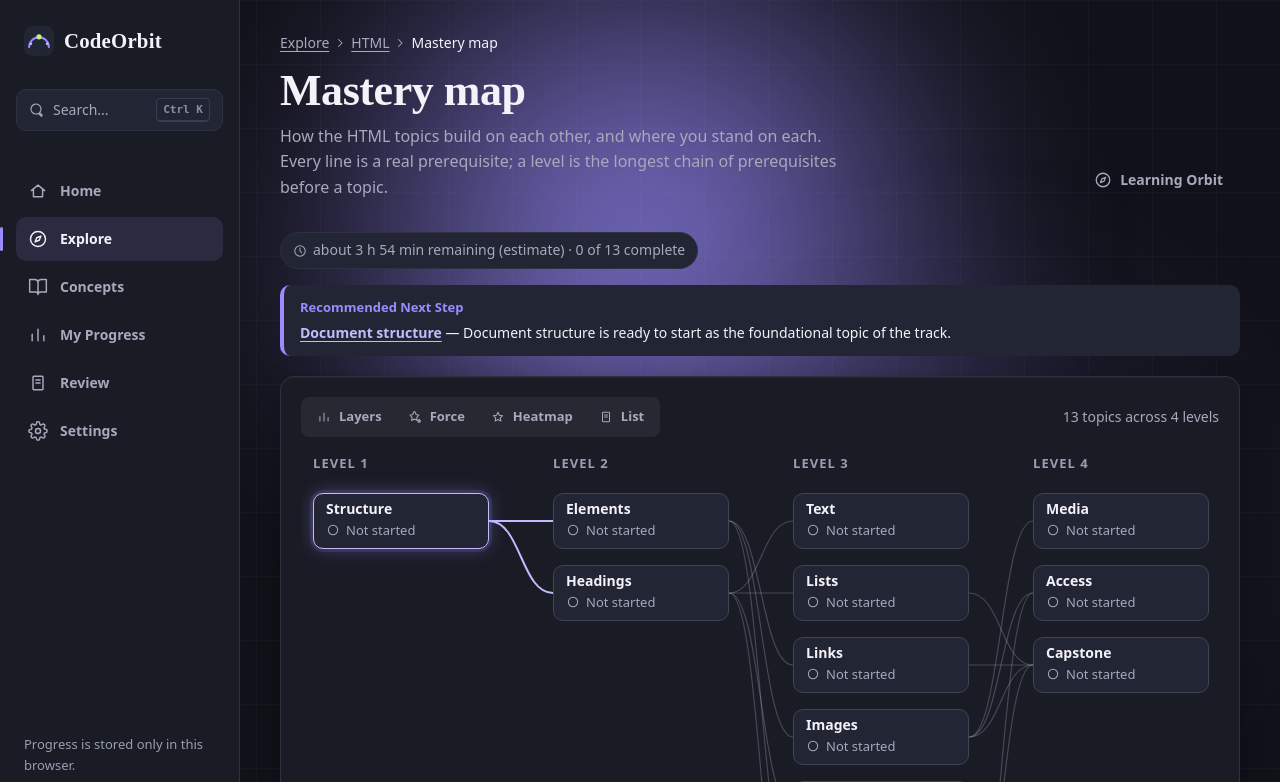
Test case: Force-directed mastery graph view (Stage 15b, Enhancement 11.1) › renders Force view tab and shows 12 nodes with only declared prerequisite edges
Click the tab "Force" at point(436, 417), box [395,400,478,434]
(page scrolled)
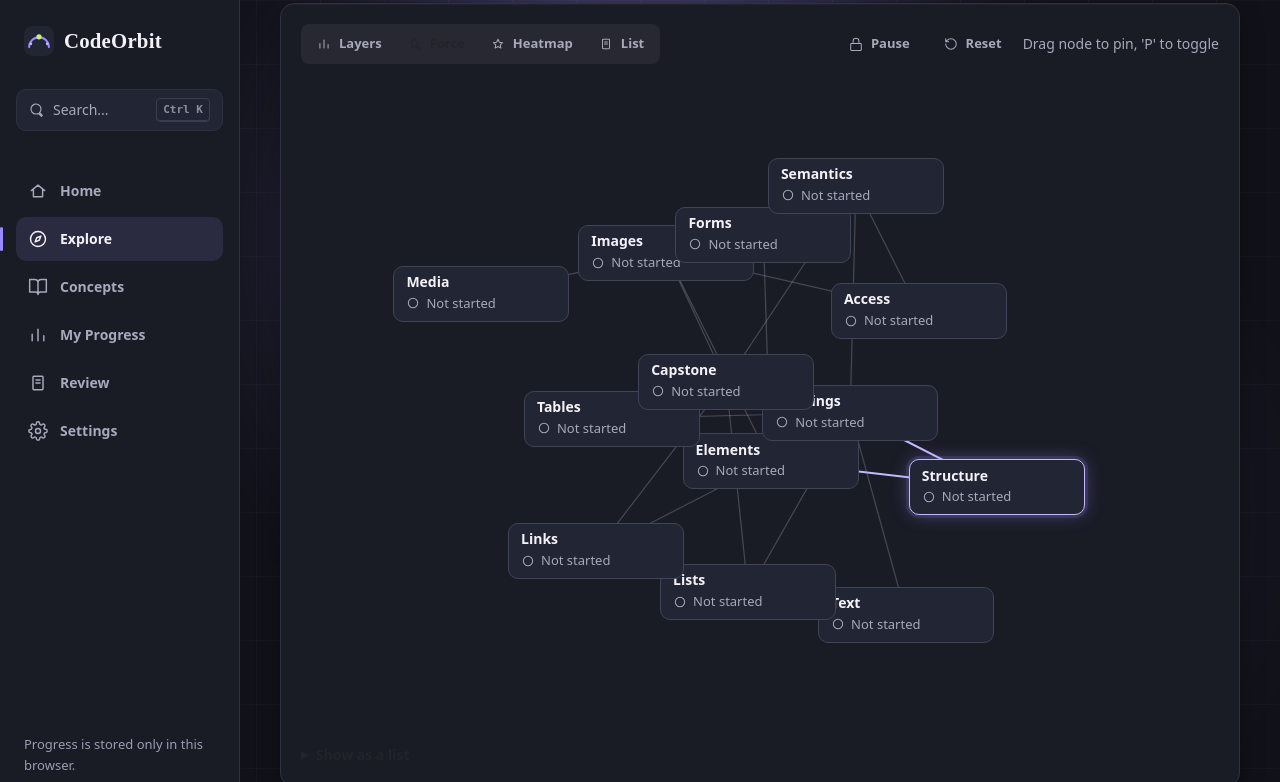
Expected: the element with class "mastery__graph--force" is shown, [301,80,1219,720]
